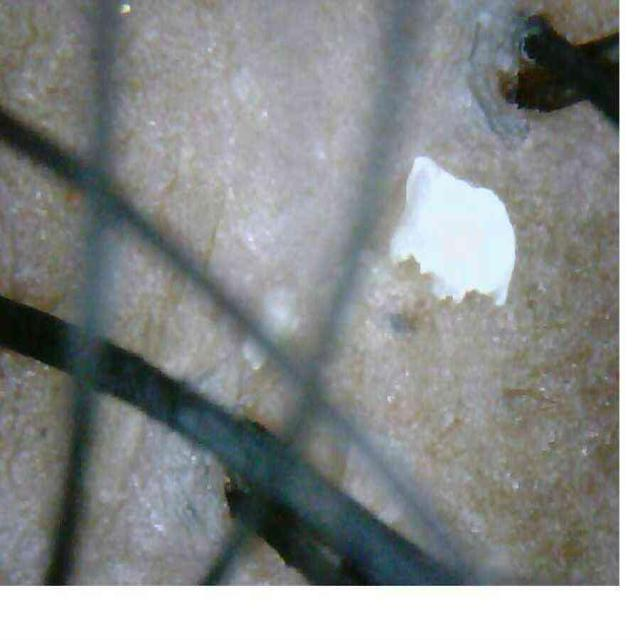d: (391, 158, 515, 305)
